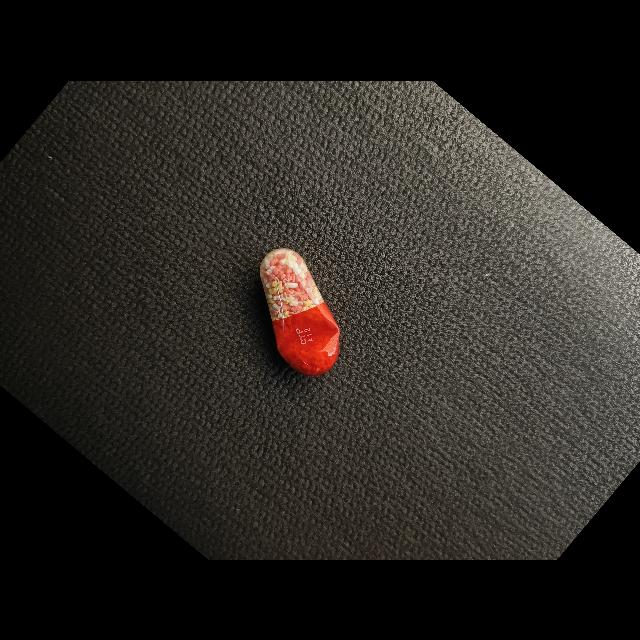Defective Capsule: (260, 248, 340, 375)
